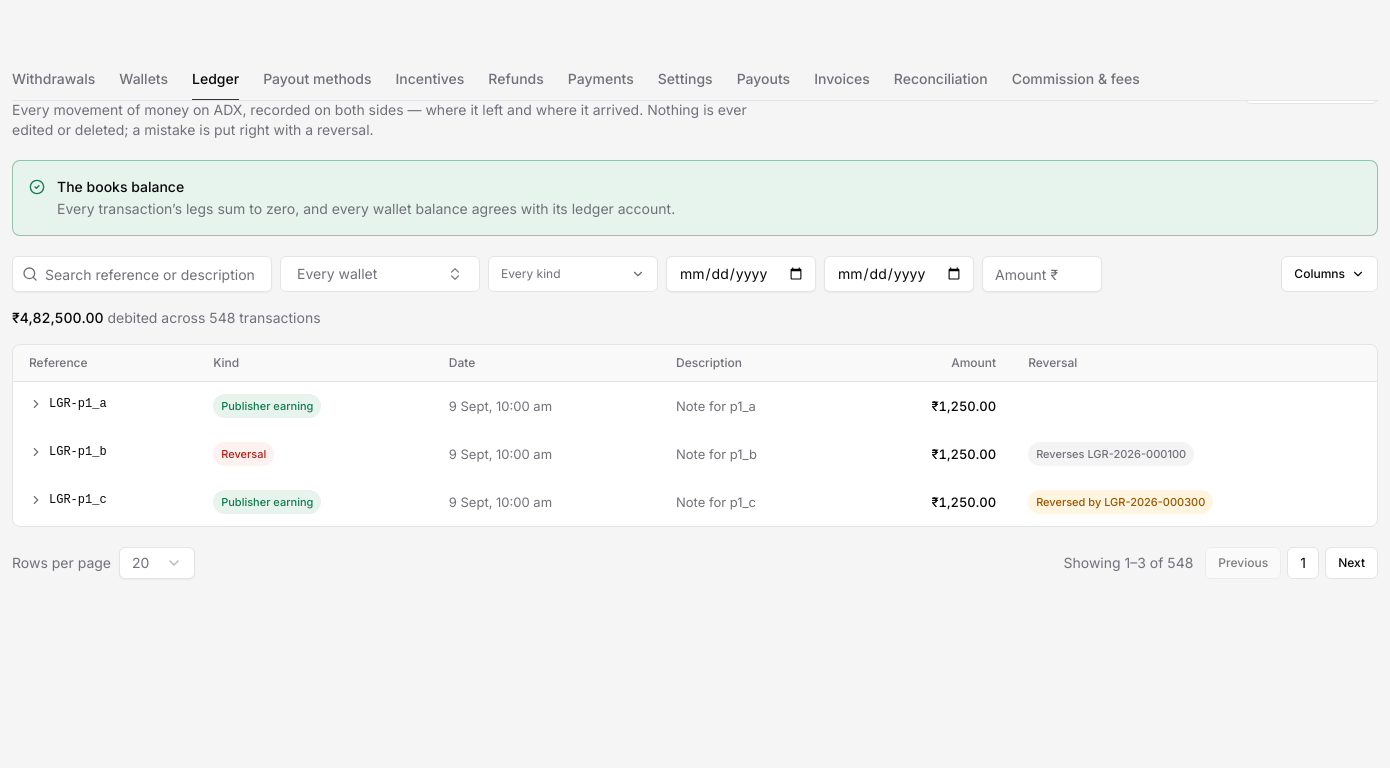
the ledger page › reads a page at a time and steps forward and back by cursor
This screenshot has width=1390, height=768.
Expected: the text "LGR-p1_a" is shown, [29, 396, 107, 412]
Expected: the text "Showing 1–3 of 548" is shown, [1064, 552, 1193, 572]
Click the button "Next".
click(1352, 562)  # box [1325, 546, 1378, 578]
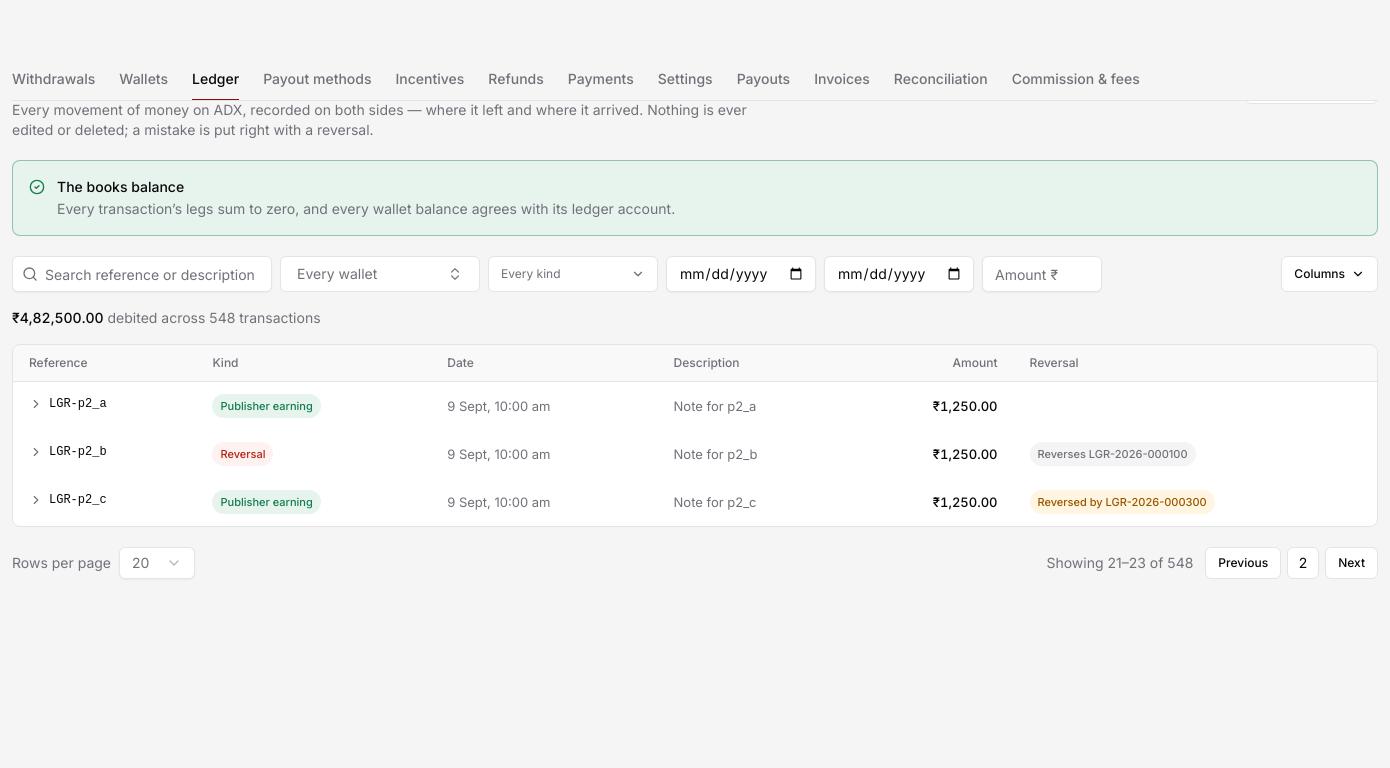
Now the text "LGR-p2_a" is shown, box [29, 396, 107, 412]
Now the text "Showing 21–23 of 548" is shown, box [1046, 552, 1193, 572]
Click the button "Previous".
click(1243, 562)  # box [1205, 546, 1281, 578]
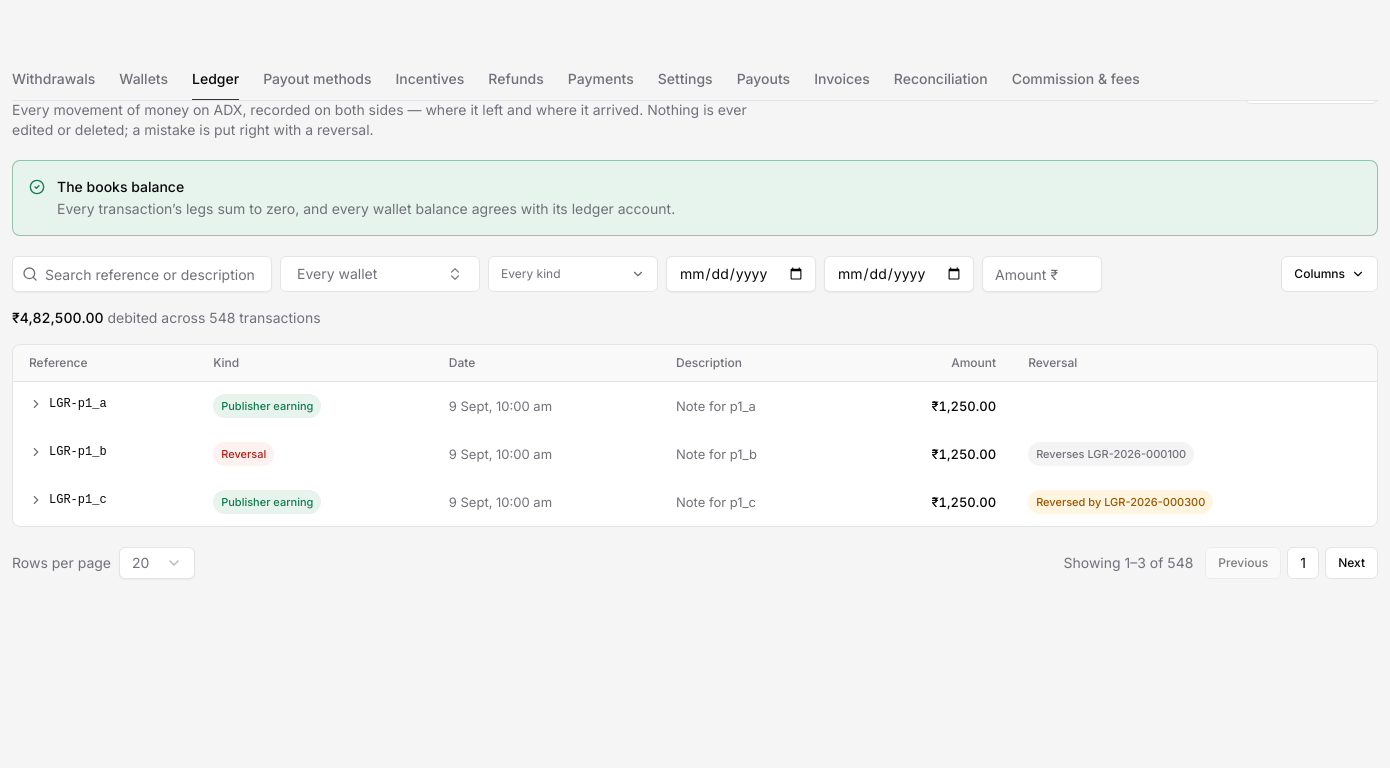
Now the text "LGR-p1_a" is shown, box [29, 396, 107, 412]
Now the text "Showing 1–3 of 548" is shown, box [1064, 552, 1193, 572]
Now the button "Previous" is disabled, box [1205, 546, 1281, 578]
